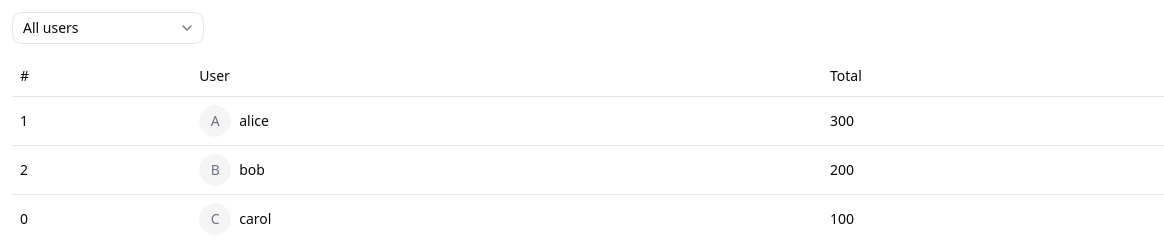
Test: scoreboard participant filtering › explains an empty result instead of rendering an empty table
Click the dropdown named "Filter participants" at {"x": 108, "y": 28}, box x1=12 y1=12 x2=204 y2=44
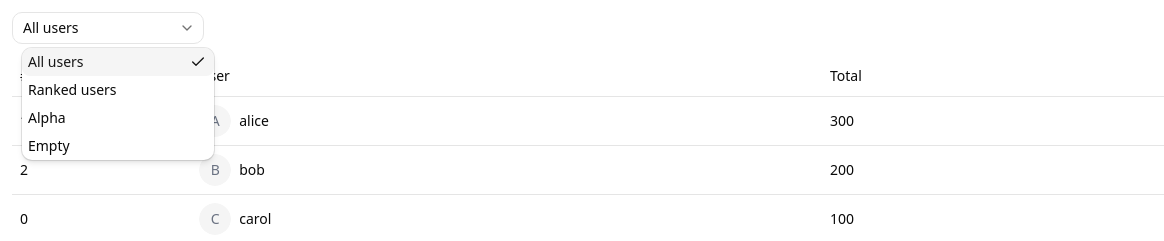
Click the option "Empty" at {"x": 49, "y": 146}, box x1=28 y1=136 x2=70 y2=155
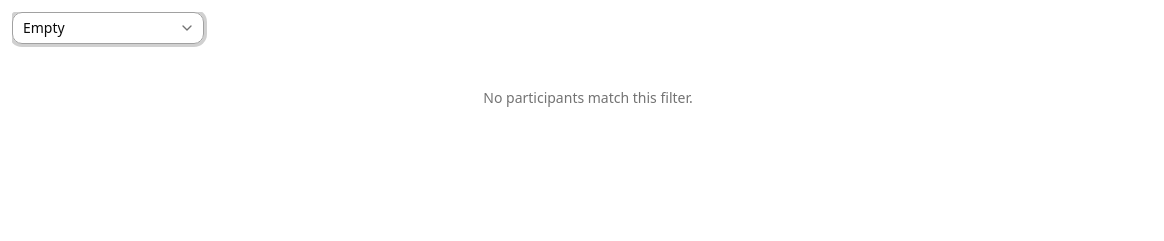
Expected: the text "No participants match this filter." is shown, x1=483 y1=88 x2=693 y2=107
Expected: the link "alice" is gone
